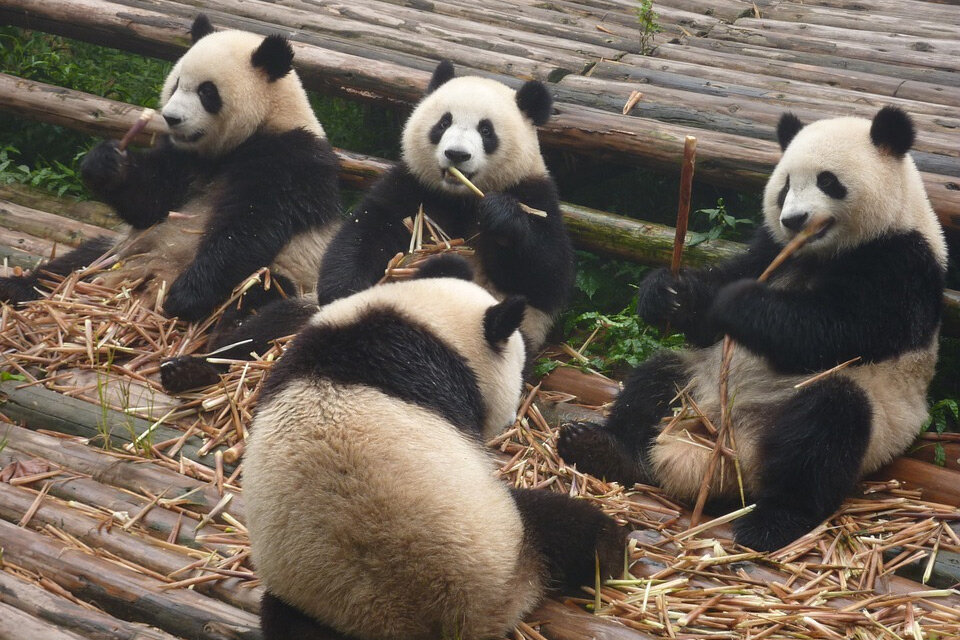panda: (615, 65, 955, 543), (232, 267, 625, 634), (350, 44, 579, 429), (90, 25, 346, 347)
